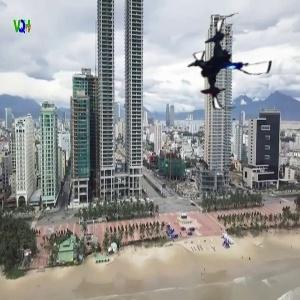drone: (182, 14, 281, 113)
